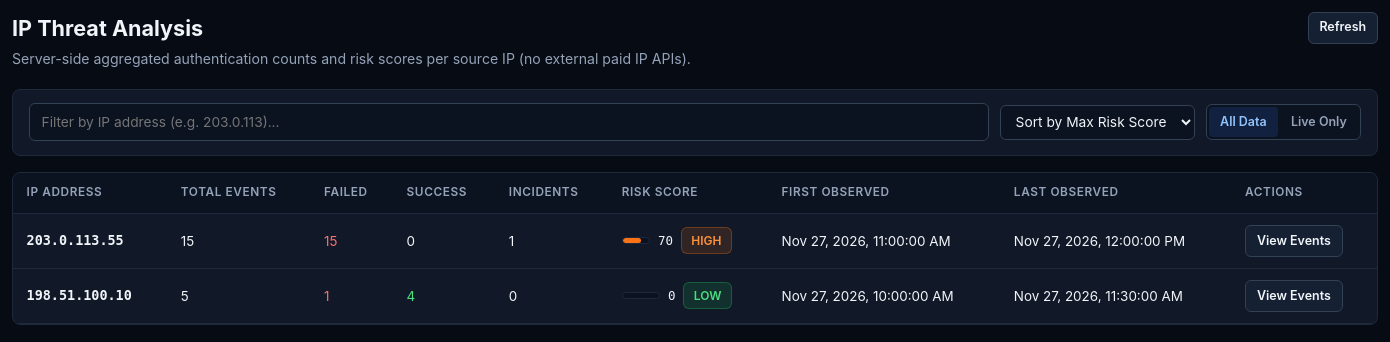
Test: Phase 8 Core Monitoring Views › IpAnalysisPage filters IPs, sorts by failures, and links to filtered Events
Expected: the text "203.0.113.55" is shown, [13,214,167,268]
Expected: the text "198.51.100.10" is shown, [13,268,167,324]
Type "203.0.113" into the search field labelled "Filter by IP address".
click(509, 122); type("203.0.113")  # box [29,103,989,141]
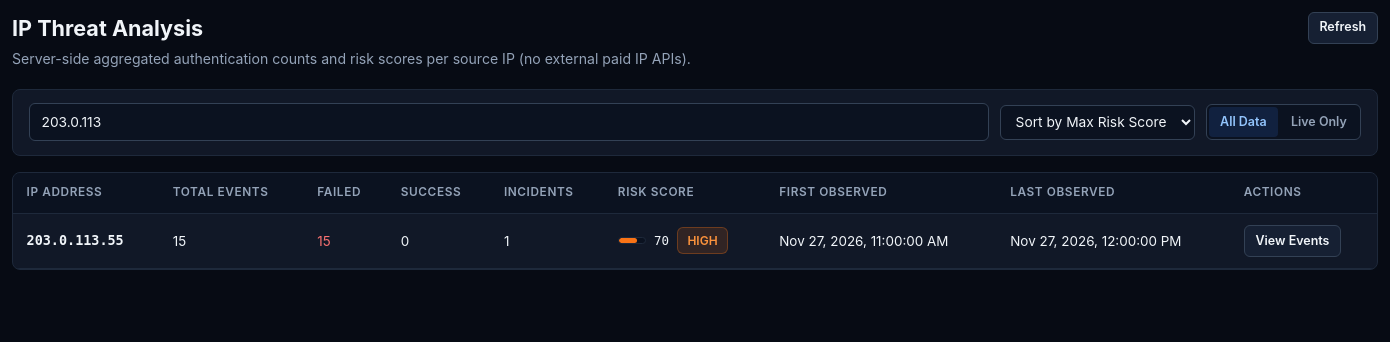
Expected: the text "203.0.113.55" is shown, [13,214,159,268]
Expected: the text "198.51.100.10" is gone
